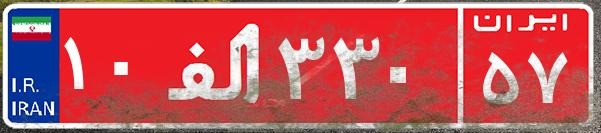0: (385, 28, 445, 110), (110, 28, 158, 105)
1: (57, 26, 110, 107)
3: (273, 28, 330, 110), (330, 28, 385, 110)
5: (475, 38, 525, 113)
7: (525, 38, 570, 115)
الف: (158, 15, 273, 115)
